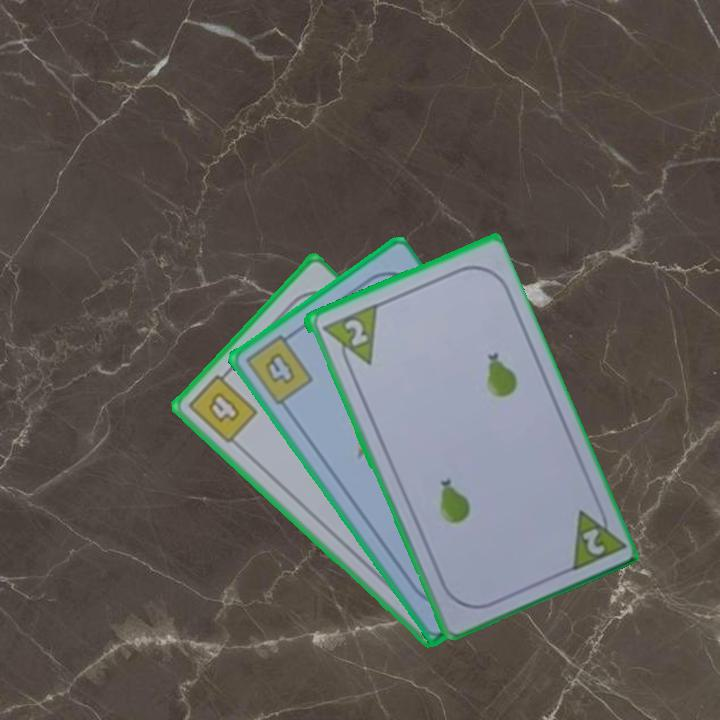2p: (317, 300, 380, 375), (577, 524, 607, 558)
4b: (184, 364, 260, 447), (241, 327, 316, 408)
